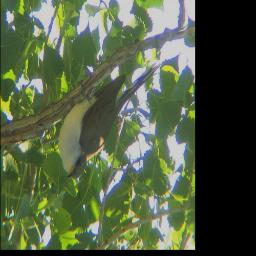Cuckoo: (58, 62, 163, 180)
